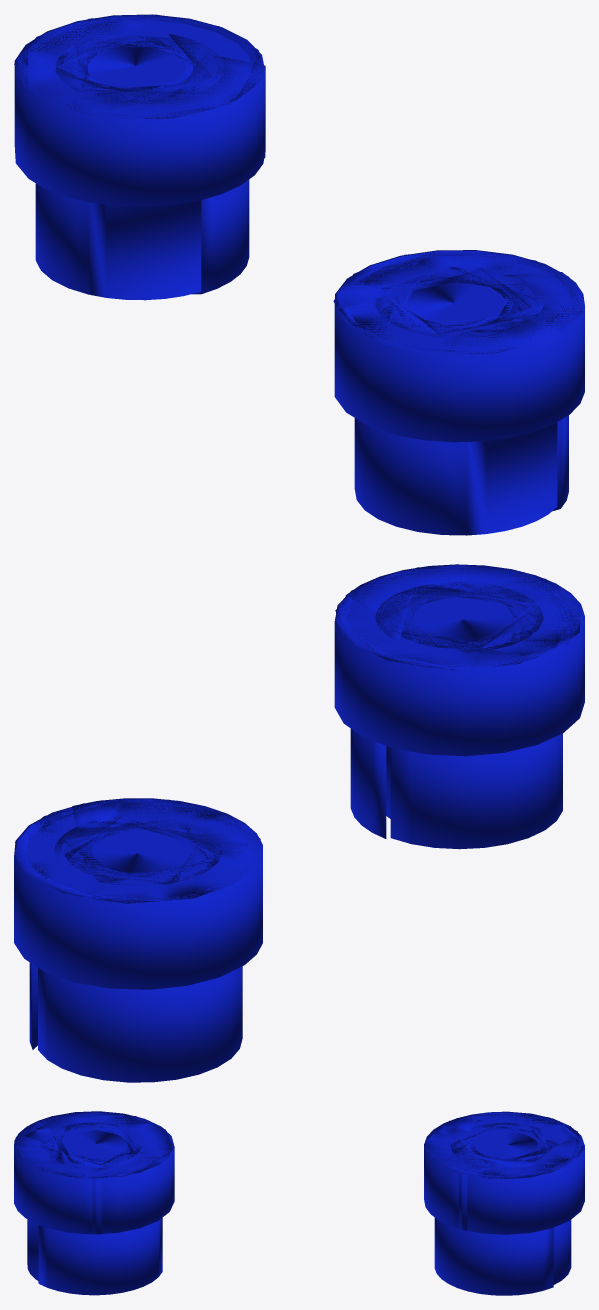
Rendered from tuyeau_element_000091.obj.
3 renders of one model, top to bottom at view 1: azimuth 30°, elevation 25°; view 2: azimuth 150°, elevation 25°; view 3: azimuth 270°, elevation 25°, orthographic. The views are drawn at different scales.
Parts seen in each view (by area): view 1: tuyeau1_Cube.014, tuyeau2_Cube.017; view 2: tuyeau2_Cube.017, tuyeau1_Cube.014; view 3: tuyeau1_Cube.014, tuyeau2_Cube.017.
Boxes of the visible parts, box(x1,y1,x2,y2) form: tuyeau1_Cube.014: box(14, 14, 265, 300); tuyeau2_Cube.017: box(333, 250, 584, 535); tuyeau2_Cube.017: box(334, 564, 584, 849); tuyeau1_Cube.014: box(14, 798, 262, 1082); tuyeau1_Cube.014: box(424, 1111, 584, 1295); tuyeau2_Cube.017: box(14, 1111, 174, 1295).
Size of the model in its own units: 3553 by 2917 by 12519.
